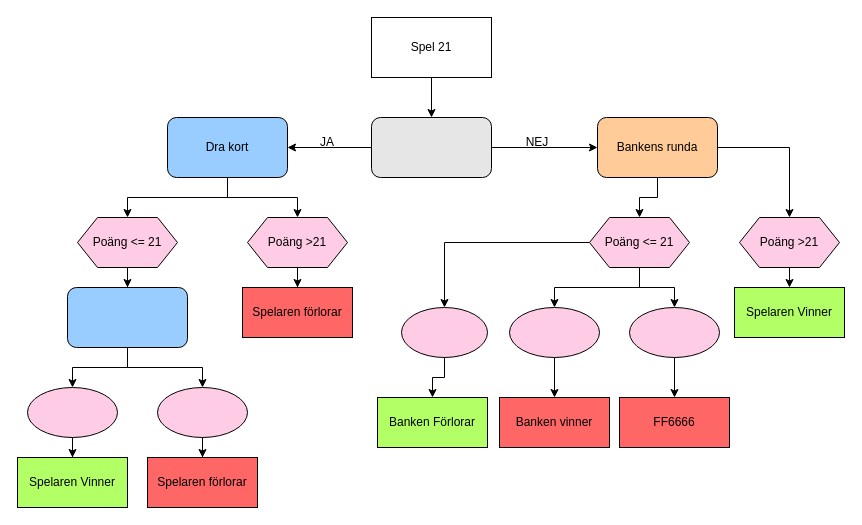
This 862x525 diagram has some shape labels left out. The centre of each missing label's shape, as x and y in pixels:
"Poäng = 20 Bank = 19" goes at [72,412].
"Poäng = 20 Spelare = 19" goes at [554,332].
"Poäng = 20 Spelare = 21" goes at [444,332].
"Poäng = 21 Bank = 21" goes at [202,412].
"Poäng = 21 spelare = 19" goes at [674,332].
"Spelaren stannar" goes at [127,317].
"Spelarens runda?" goes at [431,147].
